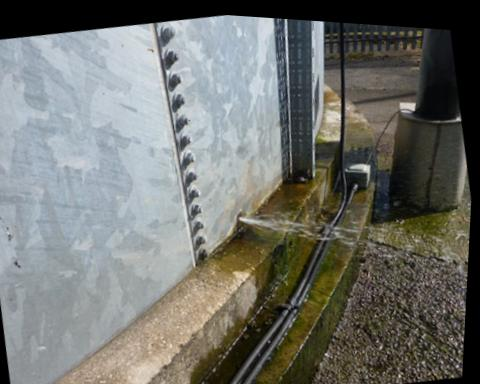leak: (229, 202, 469, 285)
